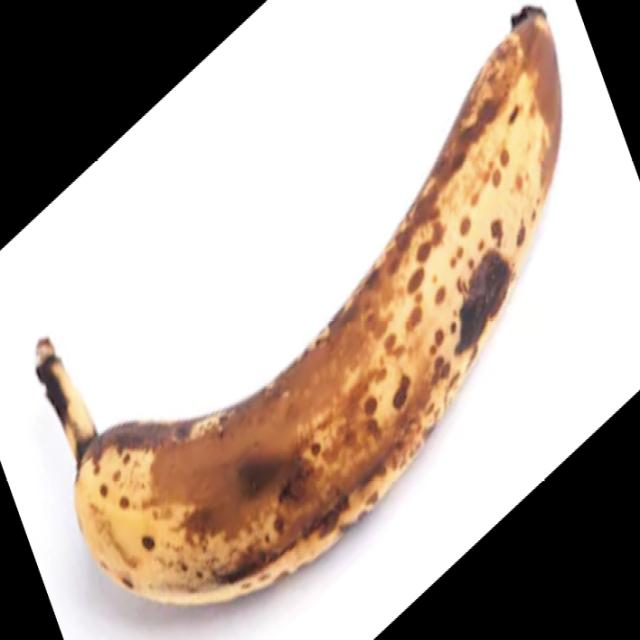overripe: (43, 2, 566, 609)
